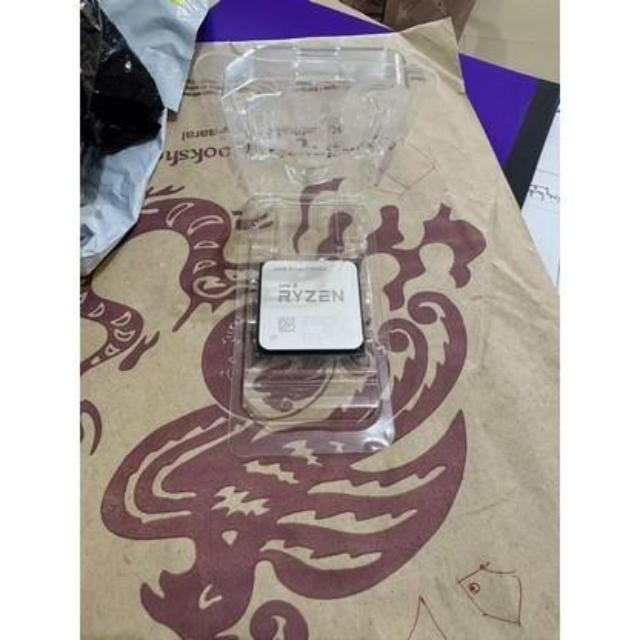CPU: (256, 256, 364, 354)
